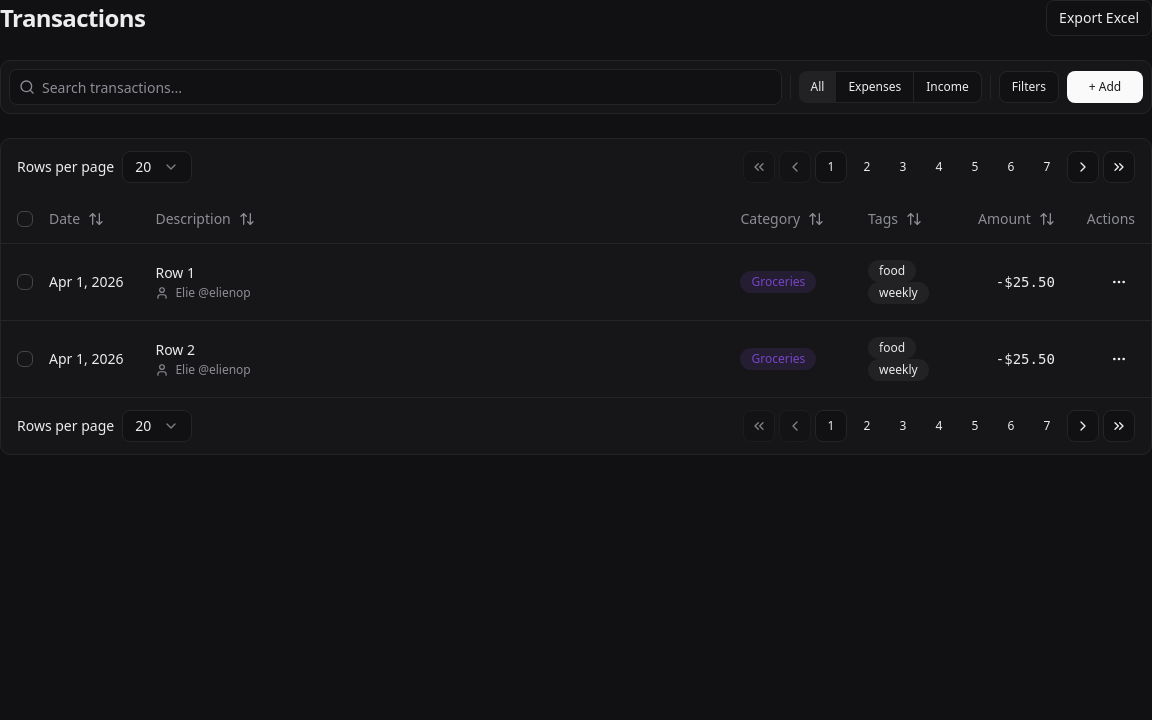
Transactions page › selection state machine › Delete in all-matching scope opens confirmation dialog instead of deleting immediately
Click the checkbox named "select row 1" at (25, 282), box [17,274,33,290]
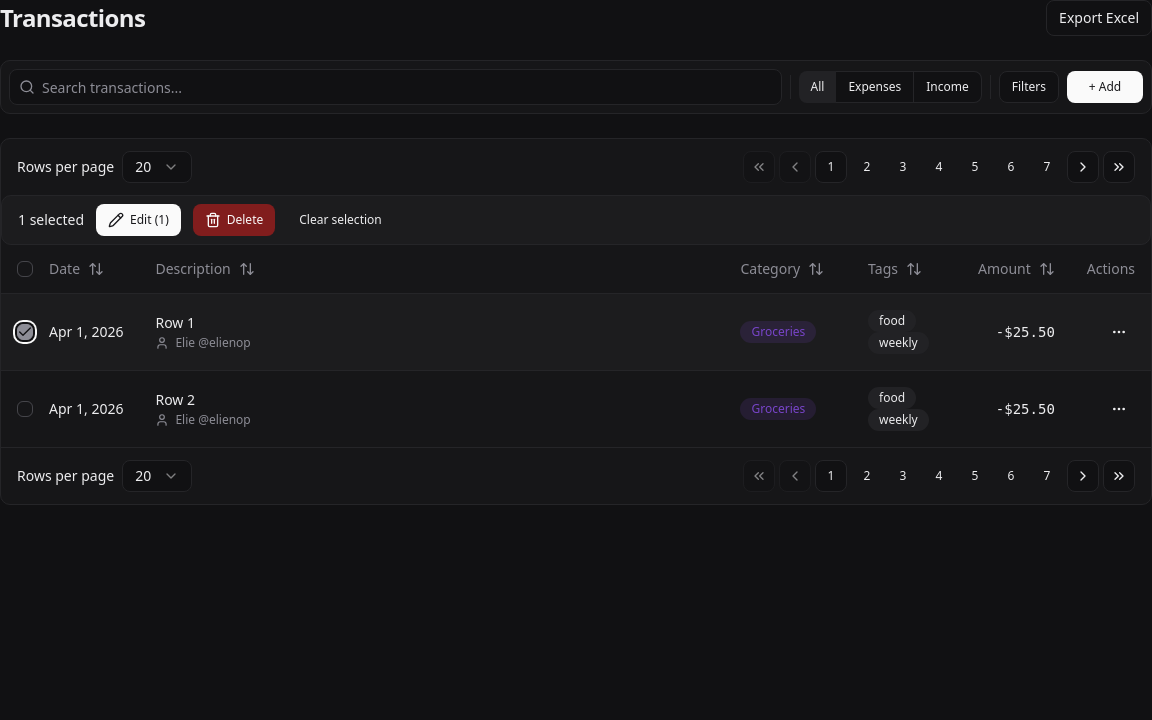
Click the checkbox named "select row 2" at (25, 408), box [17,400,33,416]
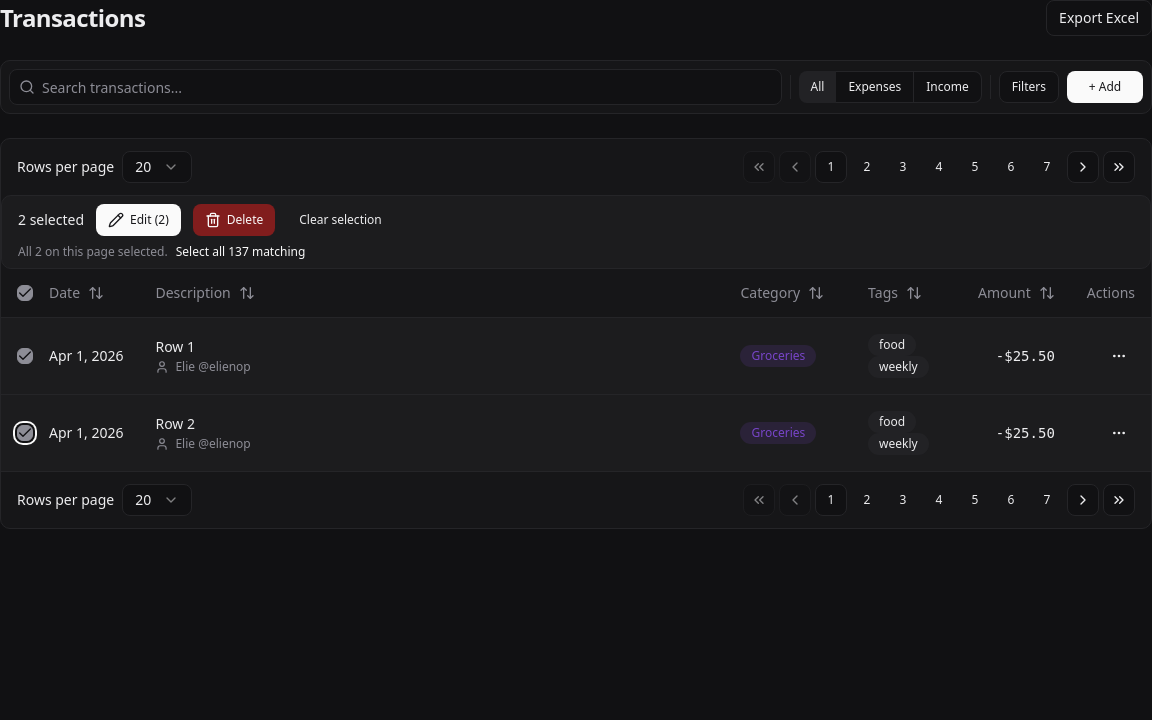
Click the button "Select all 137 matching" at (240, 252), box [176,244,305,260]
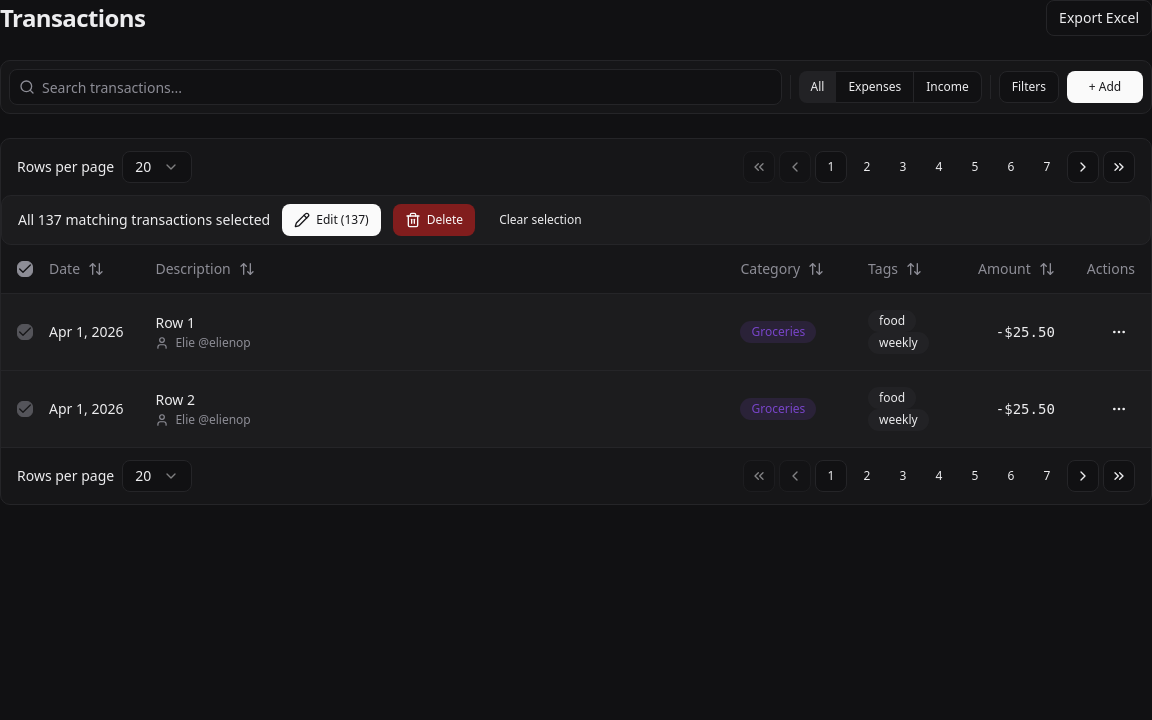
Click the button "Delete" at (434, 220), box [393,204,475,236]
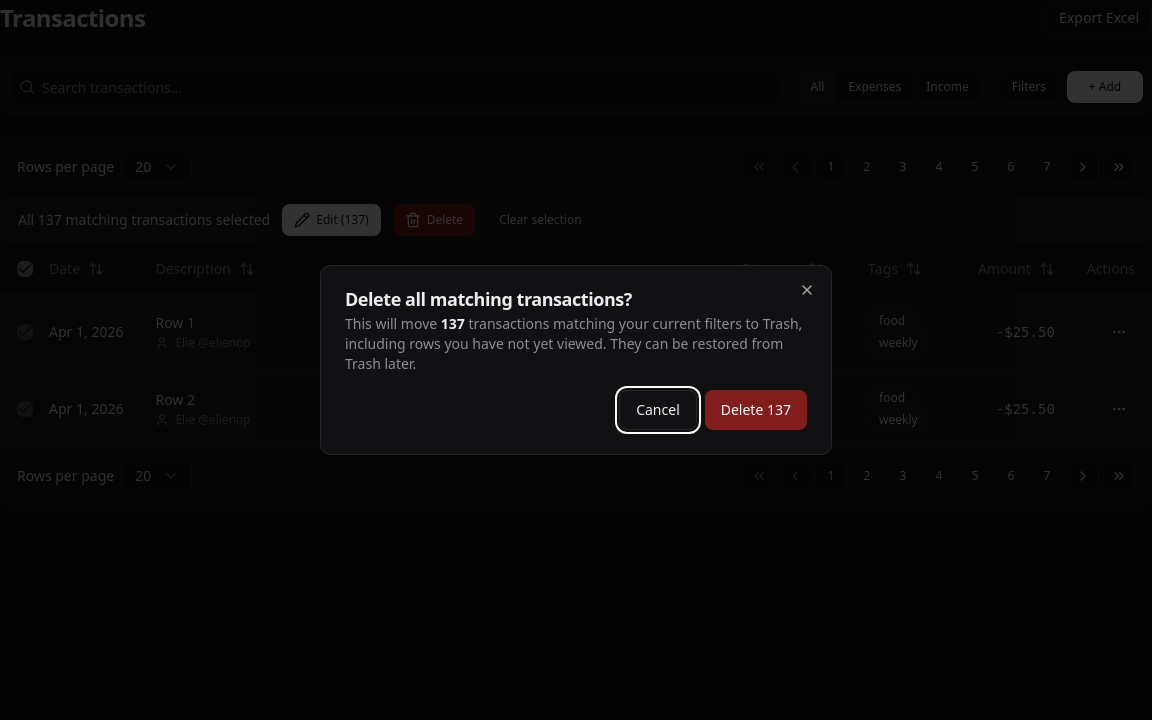
Result: the dialog "Delete all matching transactions" is shown at [320,265,832,455]
